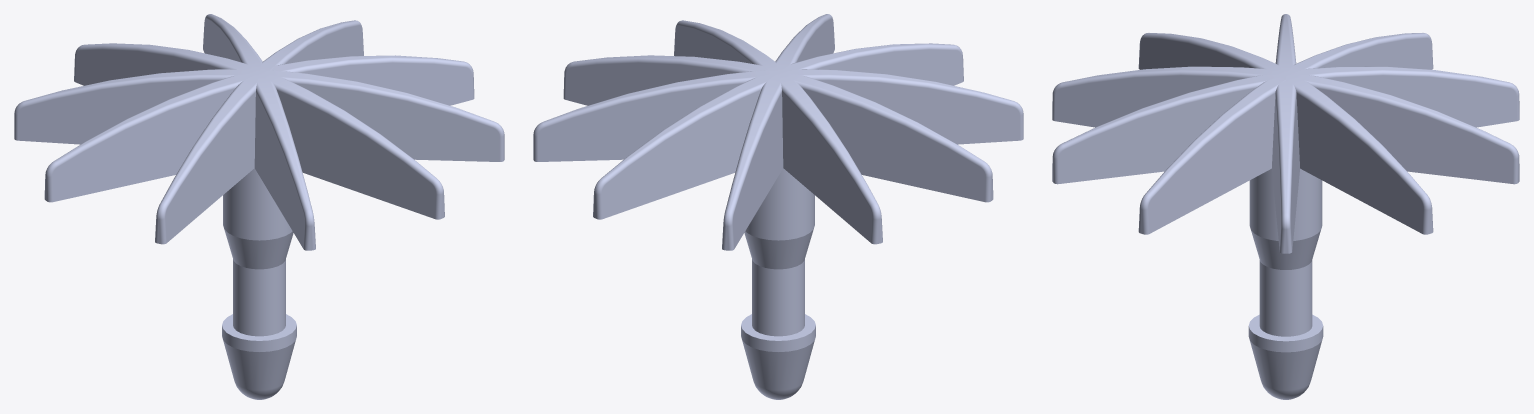
File: Insert Rollover Star (C-901).fbx
The picture shows the model from 3 angles, left to right: view 1: azimuth 30°, elevation 25°; view 2: azimuth 150°, elevation 25°; view 3: azimuth 270°, elevation 25°; orthographic projection.
Visible parts, largest first — view 1: Rollover Star; view 2: Rollover Star; view 3: Rollover Star.
Boxes of the visible parts, x1,y1,x2,y2 form: Rollover Star: [14, 14, 504, 399]; Rollover Star: [533, 14, 1023, 399]; Rollover Star: [1052, 14, 1519, 399].
Bounding box in the file's own units: 2.54 × 1.85 × 2.42.
